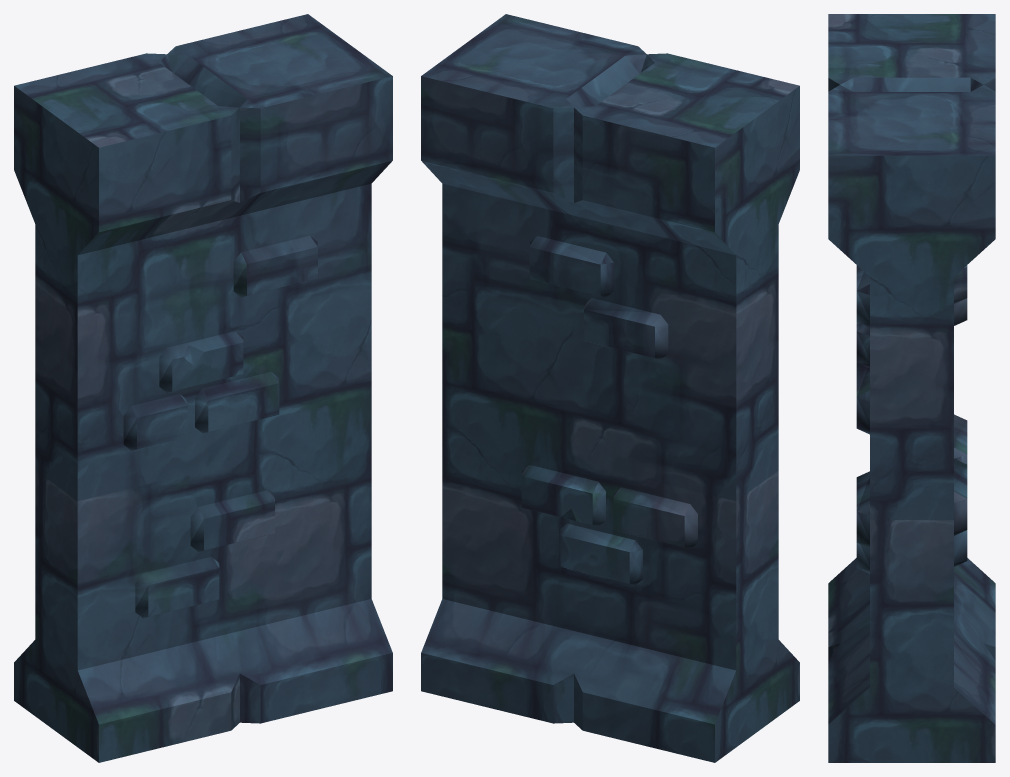
Rendered from wall_half.gltf.
The picture shows the model from 3 angles, left to right: view 1: azimuth 30°, elevation 25°; view 2: azimuth 150°, elevation 25°; view 3: azimuth 270°, elevation 25°; orthographic projection.
Parts seen in each view (by area): view 1: wall_half; view 2: wall_half; view 3: wall_half.
Part boxes in pixels (x1,y1,x2,y2): wall_half: [14, 14, 392, 762]; wall_half: [421, 14, 799, 762]; wall_half: [828, 14, 995, 762].
Size of the model in its own units: 2 by 4 by 1.
Materials: 1 (1 with a texture image).
